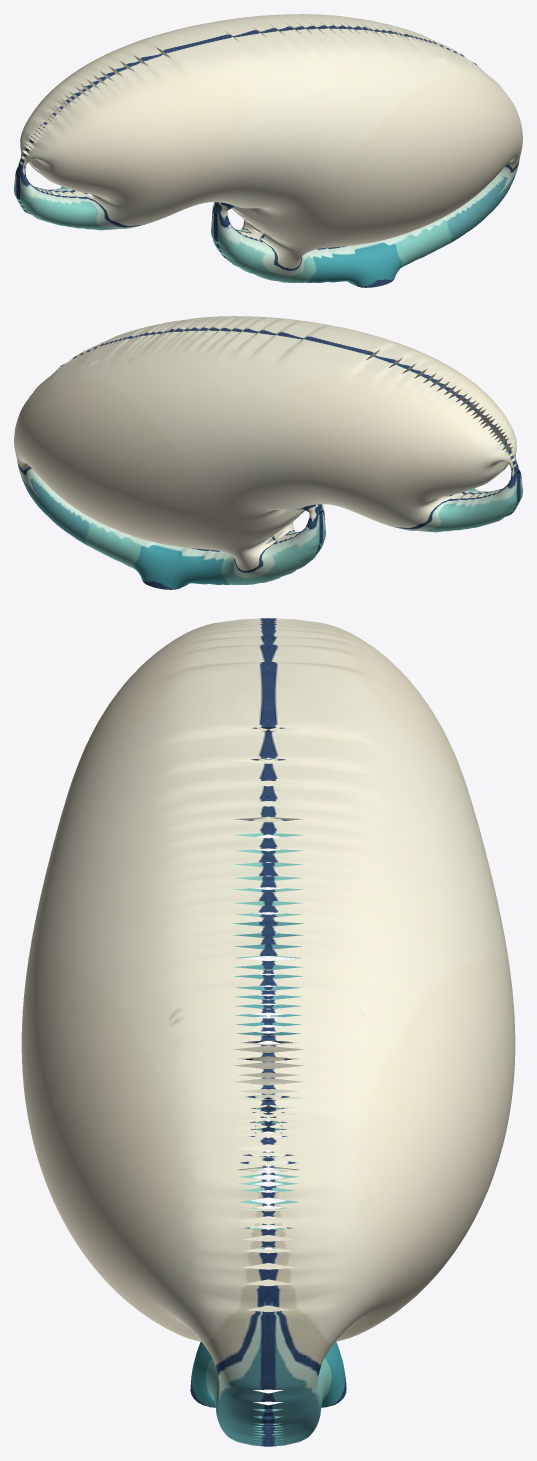
Rendered from cream_worktop.glb.
The picture shows the model from 3 angles, top to bottom: view 1: azimuth 30°, elevation 25°; view 2: azimuth 150°, elevation 25°; view 3: azimuth 270°, elevation 25°; orthographic projection. The views are drawn at different scales.
Parts seen in each view (by area): view 1: cream_worktop; view 2: cream_worktop; view 3: cream_worktop.
Part boxes in pixels (box(x1,y1,x2,y2)): cream_worktop: box(14, 14, 522, 287); cream_worktop: box(14, 316, 522, 589); cream_worktop: box(21, 618, 515, 1446).
Bounding box in the file's own units: 0.989 × 0.5125 × 0.4277.
1 material, 1 textured.
